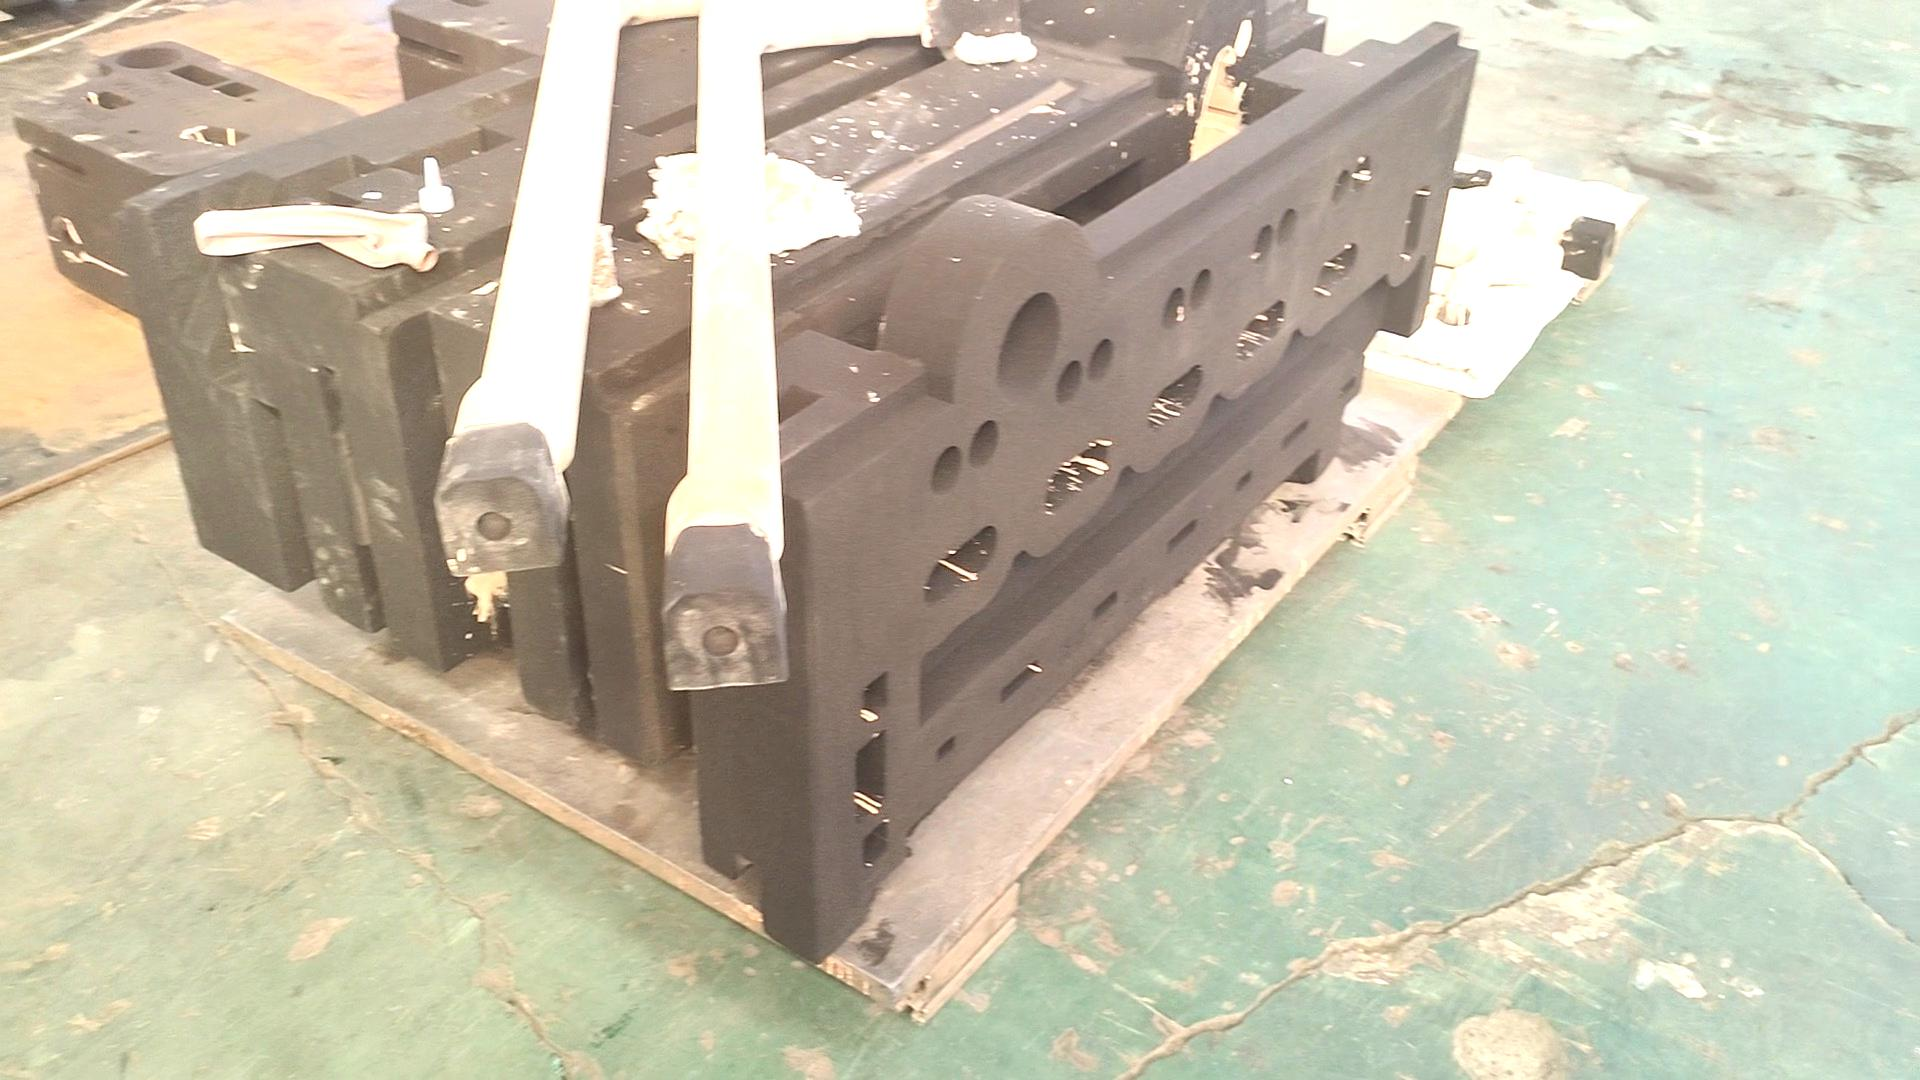pouring hole: (996, 291, 1062, 406), (115, 46, 185, 69)
